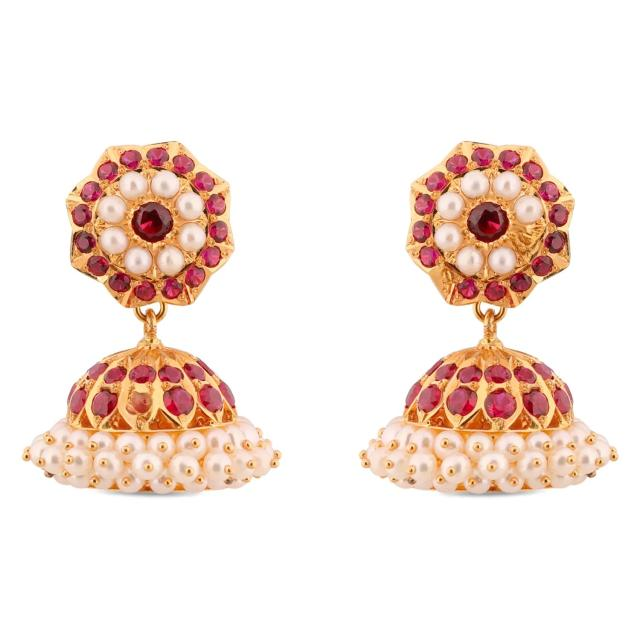missing gem: (510, 226, 540, 255), (128, 392, 152, 414)
